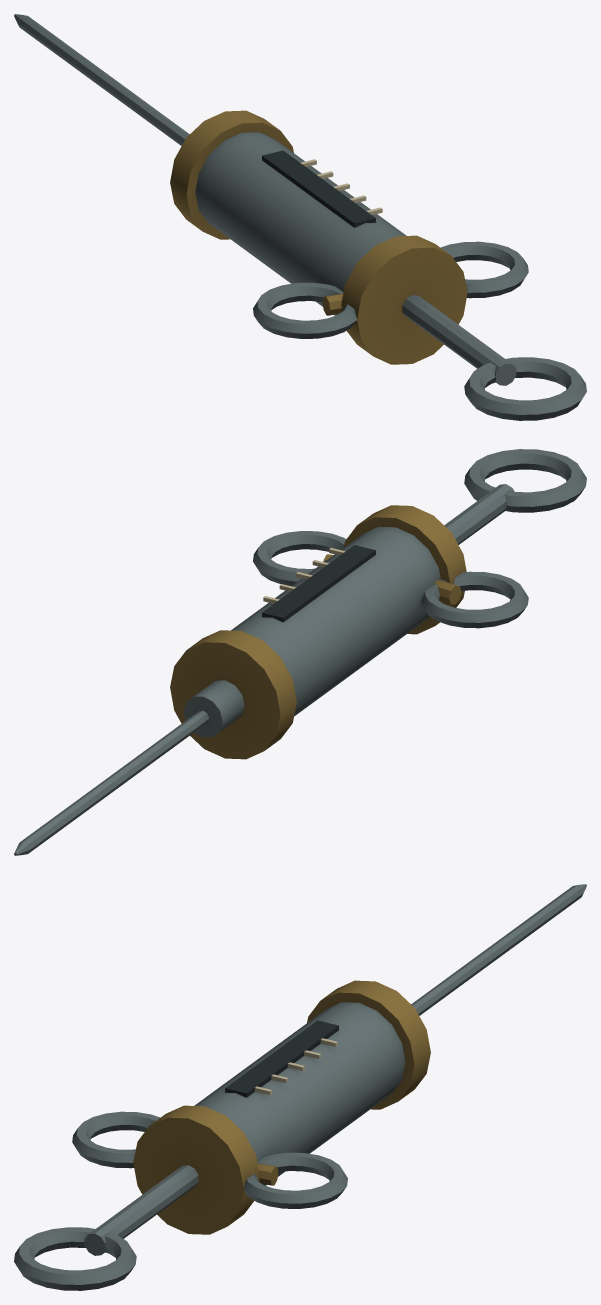
File: spritz.glb
The picture shows the model from 3 angles, top to bottom: view 1: azimuth 30°, elevation 25°; view 2: azimuth 150°, elevation 25°; view 3: azimuth 330°, elevation 25°; orthographic projection.
Parts seen in each view (by area): view 1: Spritz barrel, Spritz collar, Thumb ring, Spritz collar.001, Finger ring, Spritz_Needle, Plunger shaft, Finger ring.001, Dose window; view 2: Spritz barrel, Spritz collar.001, Thumb ring, Spritz collar, Finger ring, Spritz_Needle, Dose window, Finger ring.001, Spritz nozzle, Plunger shaft; view 3: Spritz barrel, Spritz collar, Thumb ring, Spritz collar.001, Finger ring.001, Spritz_Needle, Plunger shaft, Finger ring, Dose window.
Part boxes in pixels (<box>): Spritz barrel: <box>195,132,406,315</box>; Spritz collar: <box>341,235,467,364</box>; Thumb ring: <box>464,357,586,420</box>; Spritz collar.001: <box>170,110,293,239</box>; Finger ring: <box>253,282,357,338</box>; Spritz_Needle: <box>14,14,189,145</box>; Plunger shaft: <box>402,295,516,385</box>; Finger ring.001: <box>440,241,528,298</box>; Dose window: <box>262,150,375,227</box>; Spritz barrel: <box>231,526,440,716</box>; Spritz collar.001: <box>170,630,296,759</box>; Thumb ring: <box>464,449,586,512</box>; Spritz collar: <box>343,505,466,634</box>; Finger ring: <box>420,571,528,628</box>; Spritz_Needle: <box>14,710,209,855</box>; Dose window: <box>262,545,375,622</box>; Finger ring.001: <box>253,531,346,585</box>; Spritz nozzle: <box>183,680,244,737</box>; Plunger shaft: <box>444,484,514,544</box>; Spritz barrel: <box>194,1002,405,1185</box>; Spritz collar: <box>133,1105,259,1234</box>; Thumb ring: <box>14,1227,136,1290</box>; Spritz collar.001: <box>307,980,430,1109</box>; Finger ring.001: <box>243,1152,347,1208</box>; Spritz_Needle: <box>411,884,586,1015</box>; Plunger shaft: <box>84,1165,198,1255</box>; Finger ring: <box>72,1111,160,1168</box>; Dose window: <box>225,1020,338,1097</box>.
Size of the model in its own units: 0.147 by 0.062 by 0.526.
Materials: 1 (1 with a texture image).
